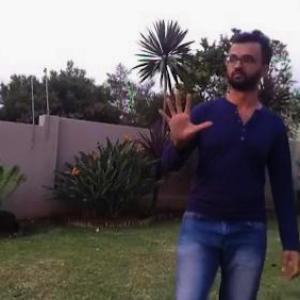follow_hand: (155, 83, 214, 145)
